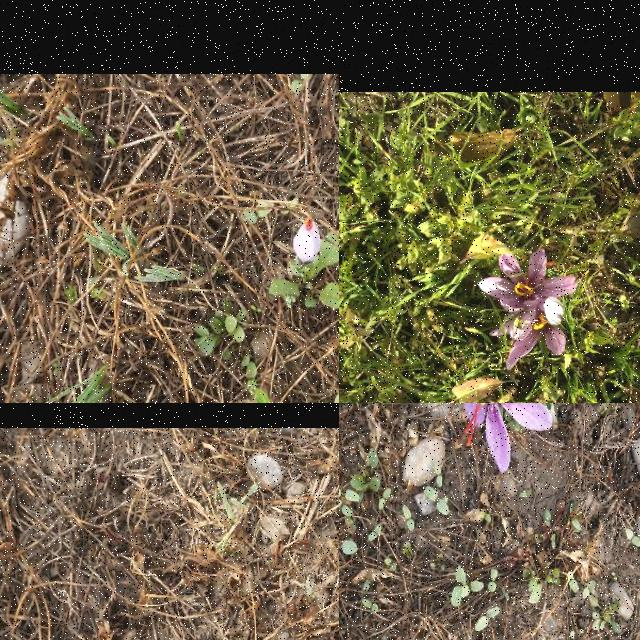flower: (464, 403, 554, 475), (293, 216, 321, 264)
overlap: (477, 249, 578, 371)
